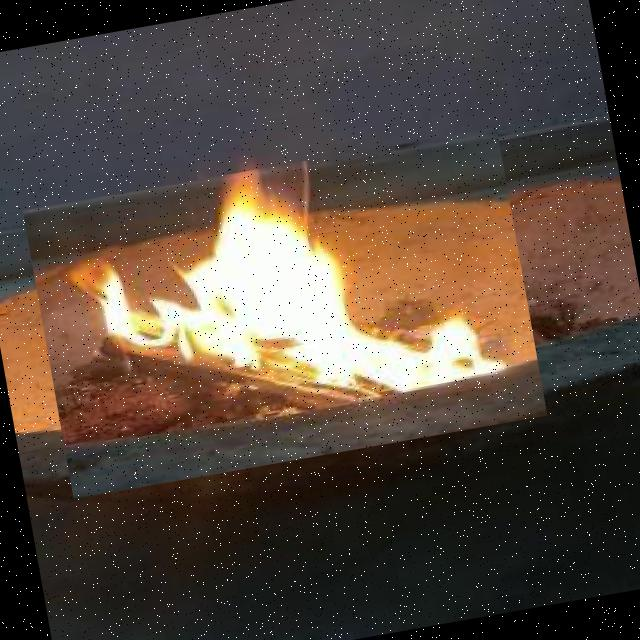fire: (22, 126, 547, 498)
